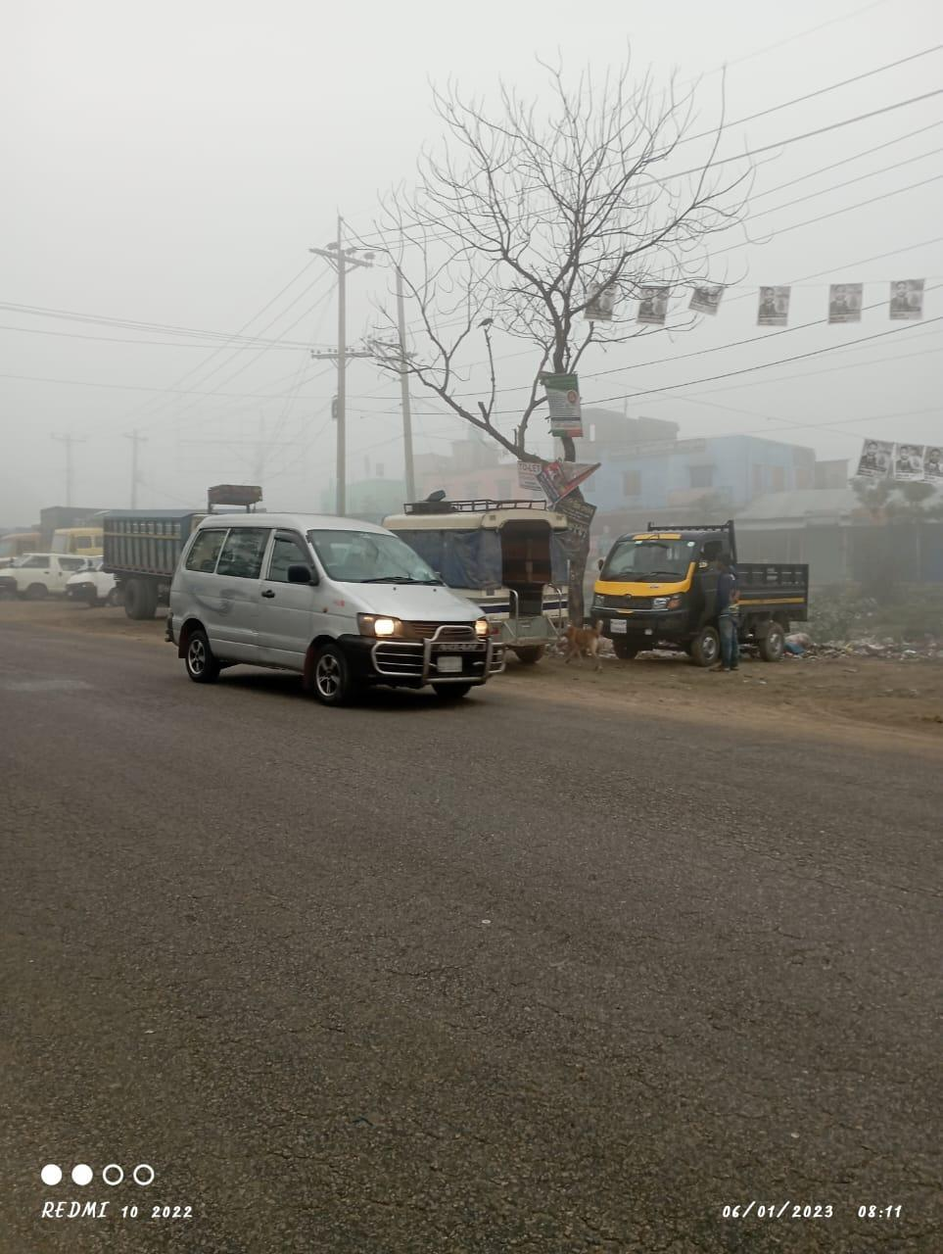Car: (157, 506, 519, 701), (386, 494, 589, 658), (3, 543, 84, 603)
Truck: (592, 512, 839, 662), (102, 482, 208, 615)
